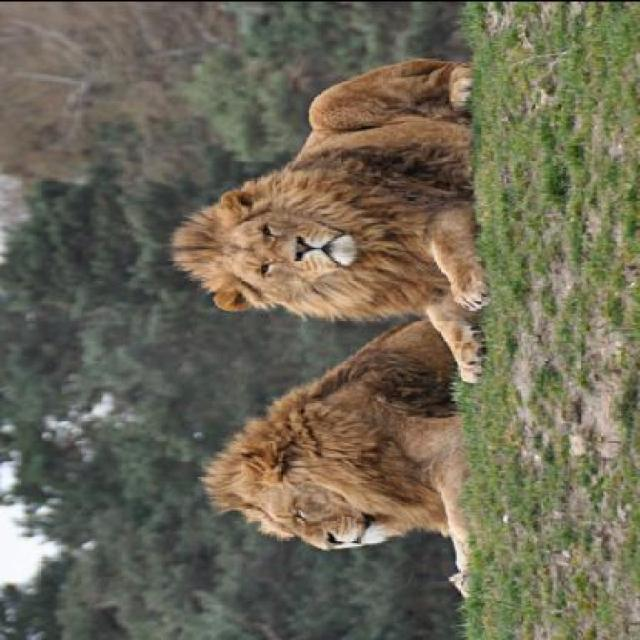Lion: (154, 45, 515, 383), (166, 323, 489, 609)
